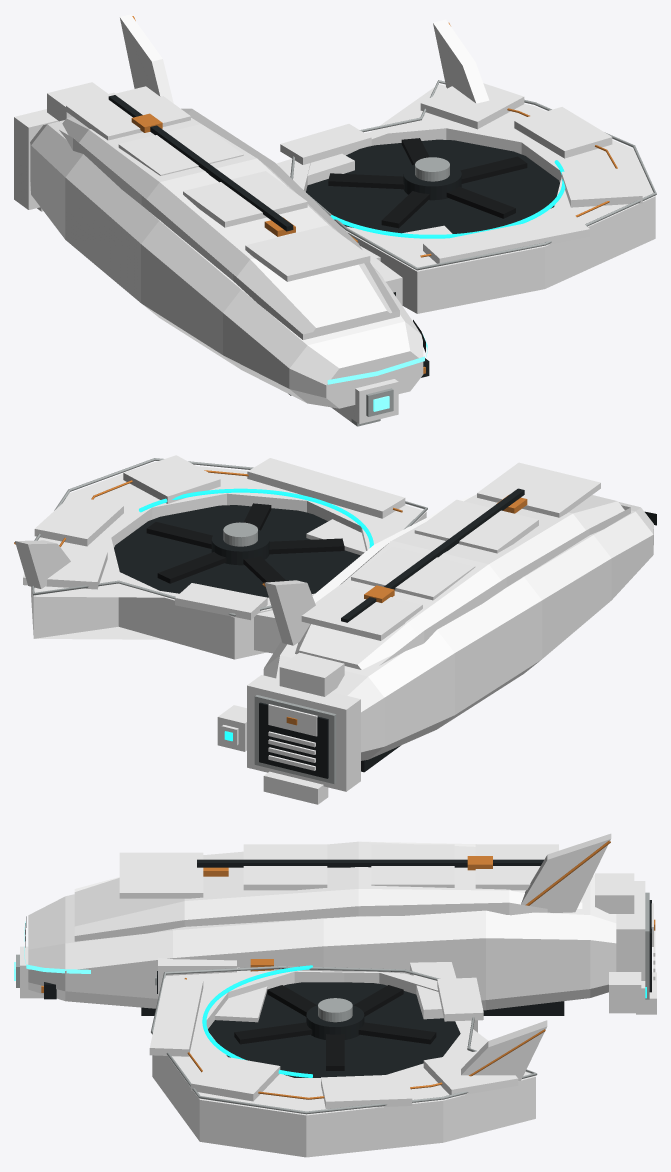
The model's file is morrowgear-family-a-scout-v3.glb.
3 renders of one model, top to bottom at view 1: azimuth 30°, elevation 25°; view 2: azimuth 150°, elevation 25°; view 3: azimuth 270°, elevation 25°, orthographic.
Parts seen in each view (by area): view 1: F01_Fuselage, W02_DuctWing.R, F02_UpperArmor, R02_InnerWell.R, F02_TopPanel_0, W02_ArmorPanel_0.R, F02_TopPanel_1, F02_TopPanel_3, F02_TopPanel_2, W02_ArmorPanel_2.R, W02_ArmorPanel_1.R, W02_ArmorPanel_3.R (+17 smaller); view 2: F01_Fuselage, W02_DuctWing.R, F02_UpperArmor, R02_InnerWell.R, V01_RearHousing, W02_ArmorPanel_0.R, F02_TopPanel_0, F02_TopPanel_3, F02_TopPanel_1, F02_TopPanel_2, W02_ArmorPanel_2.R, W02_ArmorPanel_1.R (+21 smaller); view 3: F01_Fuselage, W02_DuctWing.R, F02_UpperArmor, R02_InnerWell.R, F02_TopPanel_0, T02_CenterFin.R, F02_TopPanel_1, W02_ArmorPanel_0.R, F02_TopPanel_2, W02_ArmorPanel_2.R, W02_ArmorPanel_1.R, W04_RearTipFairing.R (+22 smaller).
Part boxes in pixels (<box>): F01_Fuselage: <box>30,120,423,408</box>; W02_DuctWing.R: <box>293,84,655,313</box>; F02_UpperArmor: <box>59,108,399,339</box>; R02_InnerWell.R: <box>306,139,559,233</box>; F02_TopPanel_0: <box>245,225,370,281</box>; W02_ArmorPanel_0.R: <box>423,214,589,263</box>; F02_TopPanel_1: <box>183,171,307,227</box>; F02_TopPanel_3: <box>66,86,190,140</box>; F02_TopPanel_2: <box>118,124,243,175</box>; W02_ArmorPanel_2.R: <box>514,107,612,158</box>; W02_ArmorPanel_1.R: <box>561,167,642,207</box>; W02_ArmorPanel_3.R: <box>420,83,524,129</box>; F01_Fuselage: <box>263,502,653,760</box>; W02_DuctWing.R: <box>31,462,426,659</box>; F02_UpperArmor: <box>295,494,630,669</box>; R02_InnerWell.R: <box>114,505,360,597</box>; V01_RearHousing: <box>247,675,360,791</box>; W02_ArmorPanel_0.R: <box>247,458,405,518</box>; F02_TopPanel_0: <box>477,462,600,517</box>; F02_TopPanel_3: <box>301,584,422,640</box>; F02_TopPanel_1: <box>414,499,538,553</box>; F02_TopPanel_2: <box>351,546,475,600</box>; W02_ArmorPanel_2.R: <box>34,495,123,546</box>; W02_ArmorPanel_1.R: <box>123,455,220,503</box>; F01_Fuselage: <box>28,874,616,1010</box>; W02_DuctWing.R: <box>152,970,535,1157</box>; F02_UpperArmor: <box>74,841,582,941</box>; R02_InnerWell.R: <box>208,982,460,1077</box>; F02_TopPanel_0: <box>119,852,203,898</box>; T02_CenterFin.R: <box>521,833,611,912</box>; F02_TopPanel_1: <box>243,844,327,890</box>; W02_ArmorPanel_0.R: <box>149,978,203,1056</box>; F02_TopPanel_2: <box>371,844,454,887</box>; W02_ArmorPanel_2.R: <box>321,1074,412,1108</box>; W02_ArmorPanel_1.R: <box>191,1055,280,1101</box>; W04_RearTipFairing.R: <box>461,1020,547,1080</box>.
Size of what is drawn, in the model's own units: 4.8 by 2.39 by 5.55.
